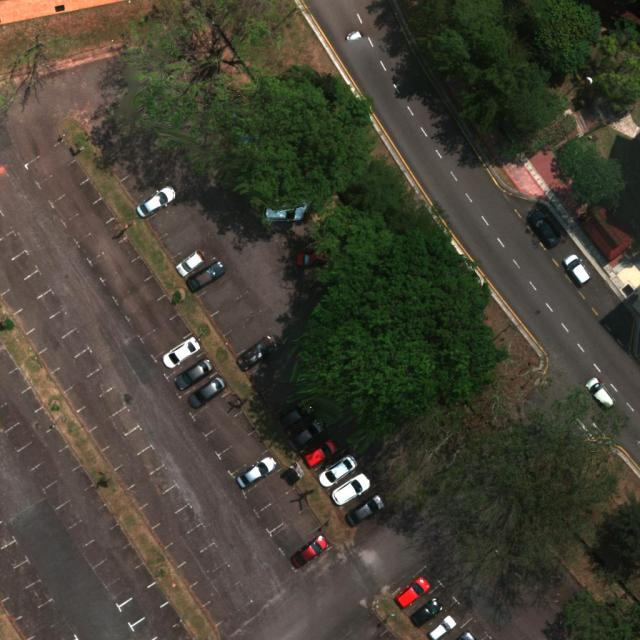Tree: (375, 351, 630, 623), (290, 203, 510, 456), (115, 2, 284, 167), (215, 64, 378, 212), (456, 60, 580, 164), (348, 158, 447, 244), (0, 30, 79, 120), (550, 134, 628, 212), (526, 0, 603, 74), (588, 486, 640, 588), (555, 587, 640, 640), (408, 24, 471, 84), (590, 54, 640, 113), (467, 23, 517, 61), (454, 0, 506, 33), (405, 0, 454, 33), (607, 17, 640, 44), (502, 0, 527, 26), (597, 32, 617, 57)
